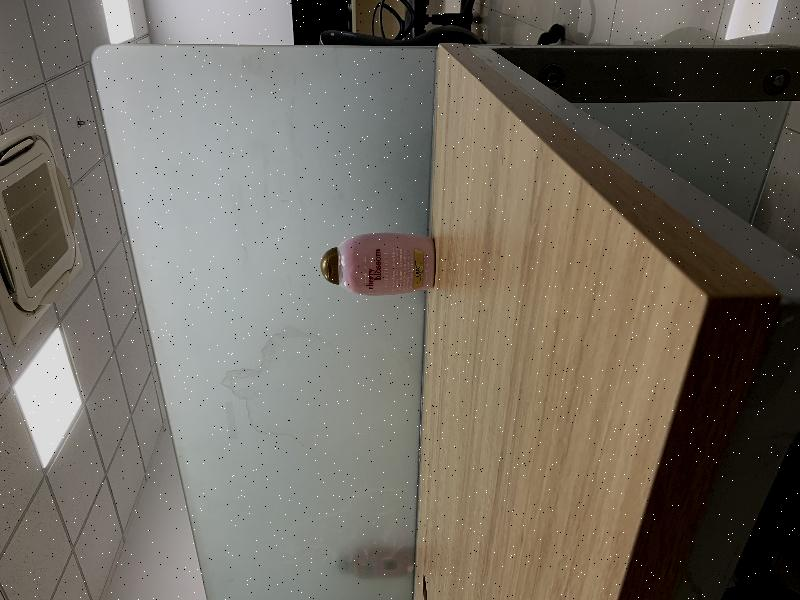CherryBlossom_Conditioner: (321, 232, 436, 296)
